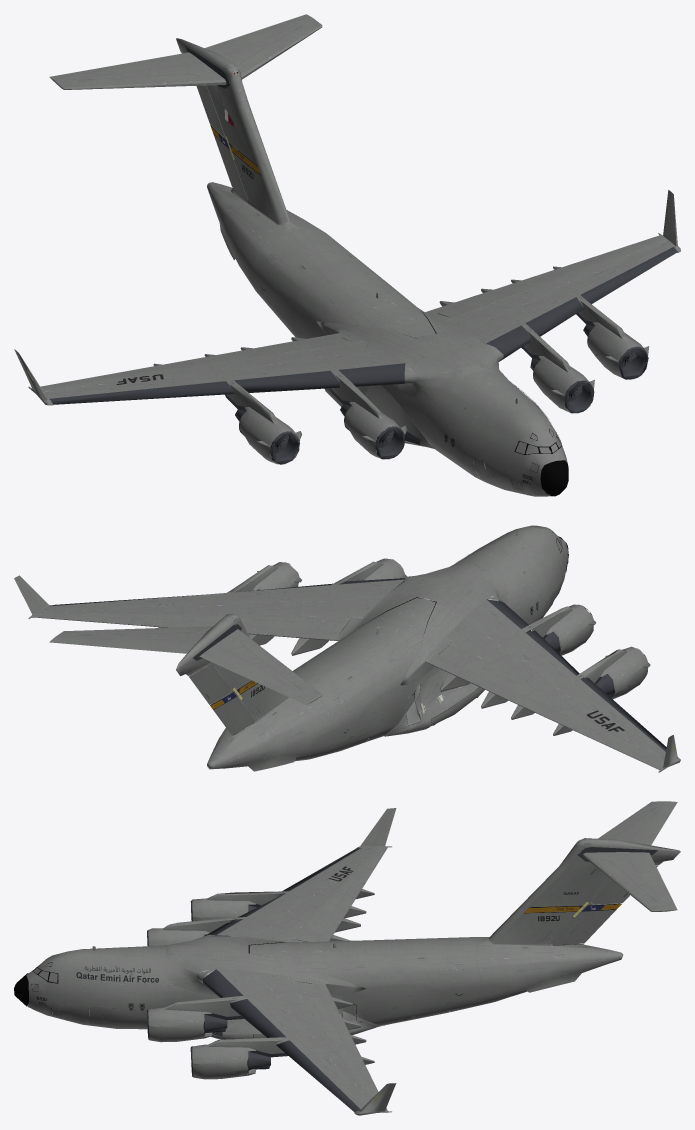
Rendered from aircraft.glb.
3 views of the same model, one above another, from view 1: azimuth 30°, elevation 25°; view 2: azimuth 150°, elevation 25°; view 3: azimuth 270°, elevation 25° (orthographic). The views are drawn at different scales.
Parts seen in each view (by area): view 1: Object_7, Object_14, Object_6, Object_11; view 2: Object_7, Object_14, Object_11; view 3: Object_7, Object_14, Object_11, Object_6, QAEAF Fuselage Title +1.
Part boxes in pixels (box(x1,y1,x2,y2)): Object_7: box(14, 14, 680, 496); Object_14: box(49, 46, 677, 464); Object_6: box(271, 313, 632, 496); Object_11: box(27, 109, 600, 484); Object_7: box(14, 525, 680, 772); Object_14: box(50, 562, 677, 757); Object_11: box(159, 560, 675, 751); Object_7: box(26, 801, 680, 1115); Object_14: box(147, 847, 657, 1111); Object_11: box(36, 866, 621, 1102); Object_6: box(14, 942, 356, 1065); QAEAF Fuselage Title +1: box(76, 966, 158, 982).
Size of the model in its own units: 67.52 by 21.33 by 69.17.
Materials: 14 (9 with a texture image).
